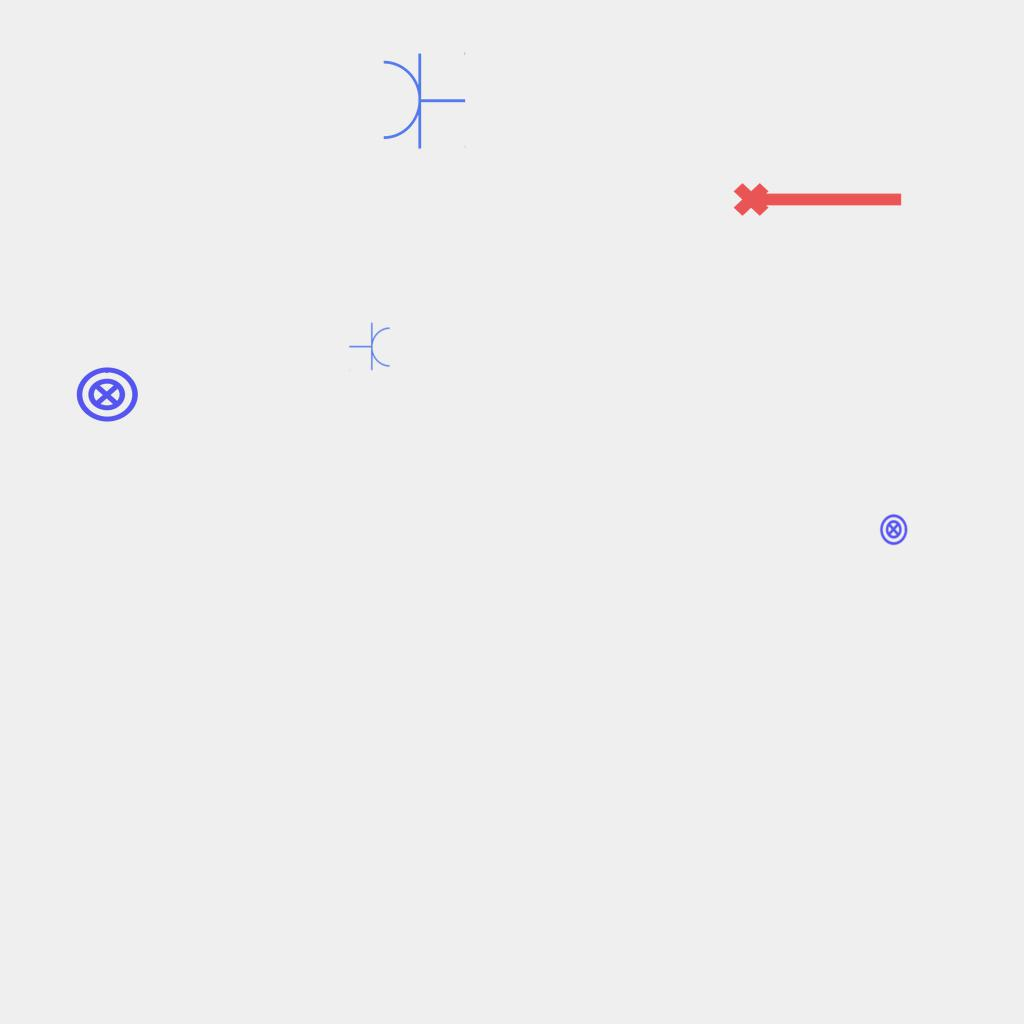ASR_Ansaugoeffnung: (731, 174, 907, 220)
Schukosteckdose_einfach: (379, 50, 466, 150), (349, 322, 392, 372)
Taster_beleuchtet: (74, 362, 140, 428), (877, 513, 910, 546)
